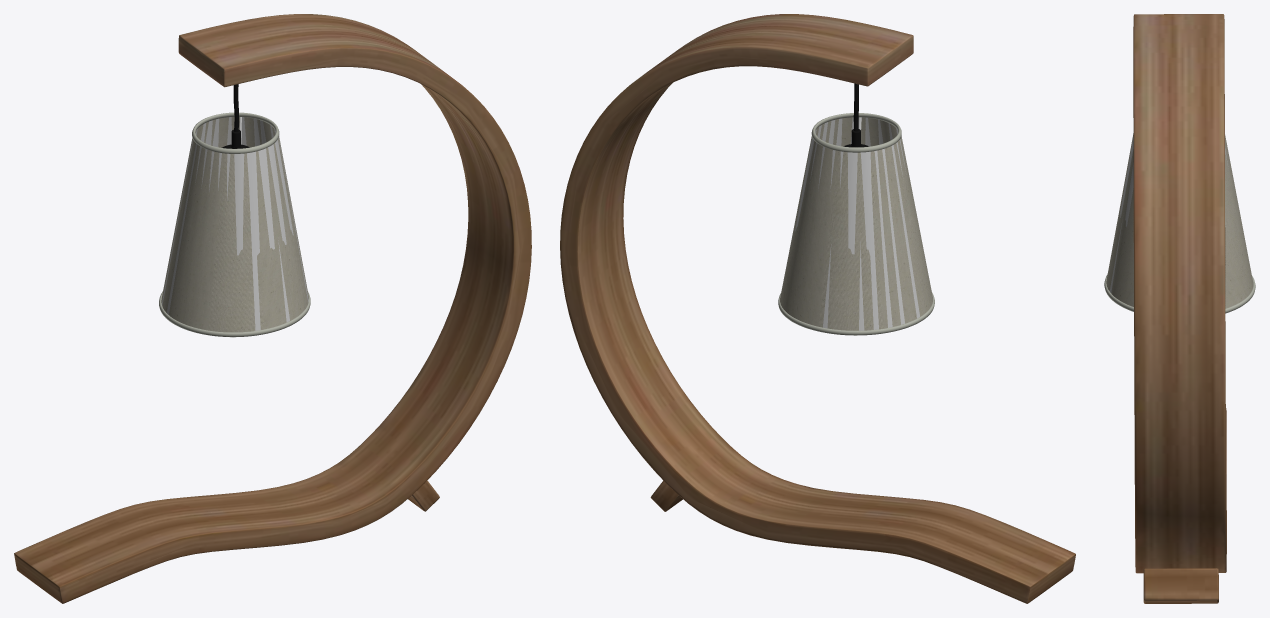
Rendered from desk-lamp.glb.
The picture shows the model from 3 angles, left to right: view 1: azimuth 30°, elevation 25°; view 2: azimuth 150°, elevation 25°; view 3: azimuth 270°, elevation 25°; orthographic projection.
Parts seen in each view (by area): view 1: Tret030_MainBody_A_24_ZebranoVeneer_0, Tret030_LampShadeNew002_B_03_Tintura01_0, Tret030_Cable_C_09_BlackCable_0; view 2: Tret030_MainBody_A_24_ZebranoVeneer_0, Tret030_LampShadeNew002_B_03_Tintura01_0, Tret030_Cable_C_09_BlackCable_0; view 3: Tret030_MainBody_A_24_ZebranoVeneer_0, Tret030_LampShadeNew002_B_03_Tintura01_0, Tret030_Cable_C_09_BlackCable_0.
Part boxes in pixels (<box>): Tret030_MainBody_A_24_ZebranoVeneer_0: <box>14,14,531,603</box>; Tret030_LampShadeNew002_B_03_Tintura01_0: <box>161,117,308,332</box>; Tret030_Cable_C_09_BlackCable_0: <box>159,84,310,337</box>; Tret030_MainBody_A_24_ZebranoVeneer_0: <box>560,14,1075,603</box>; Tret030_LampShadeNew002_B_03_Tintura01_0: <box>780,117,932,330</box>; Tret030_Cable_C_09_BlackCable_0: <box>778,83,934,335</box>; Tret030_MainBody_A_24_ZebranoVeneer_0: <box>1133,14,1226,603</box>; Tret030_LampShadeNew002_B_03_Tintura01_0: <box>1106,133,1253,308</box>; Tret030_Cable_C_09_BlackCable_0: <box>1104,135,1255,313</box>.
Size of the model in its own units: 0.5003 by 0.5038 by 0.1406.
Materials: 4 (4 with a texture image).
